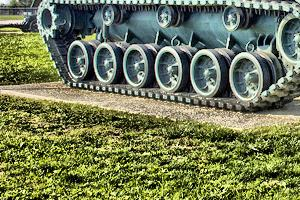tanks: (34, 1, 300, 111)
